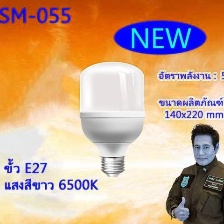light_bulb: (76, 58, 149, 180)
